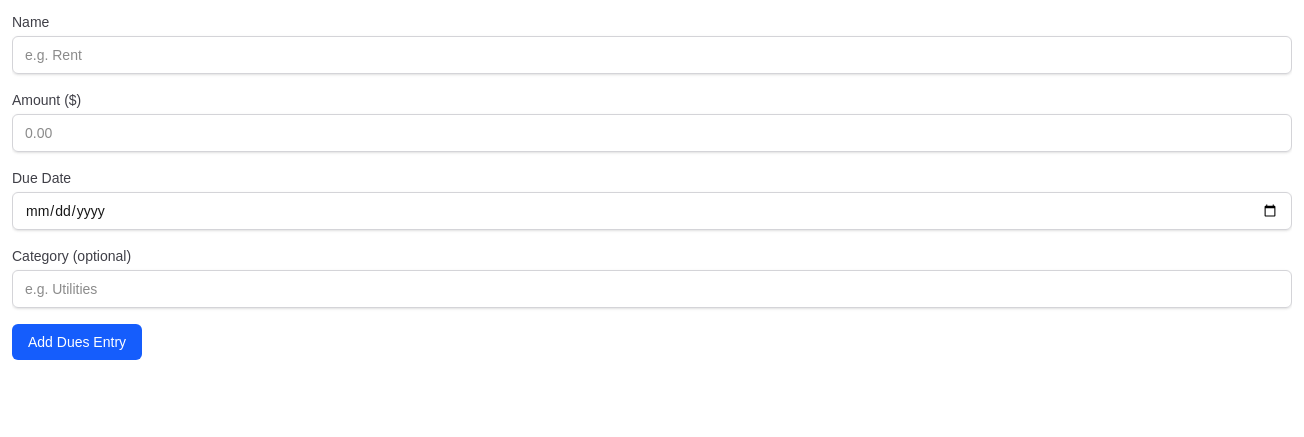
DuesForm component › clears individual field errors on input change
Note: Submit empty to trigger errors
Click the button "Add Dues Entry" at (77, 342), box [12,324,142,360]
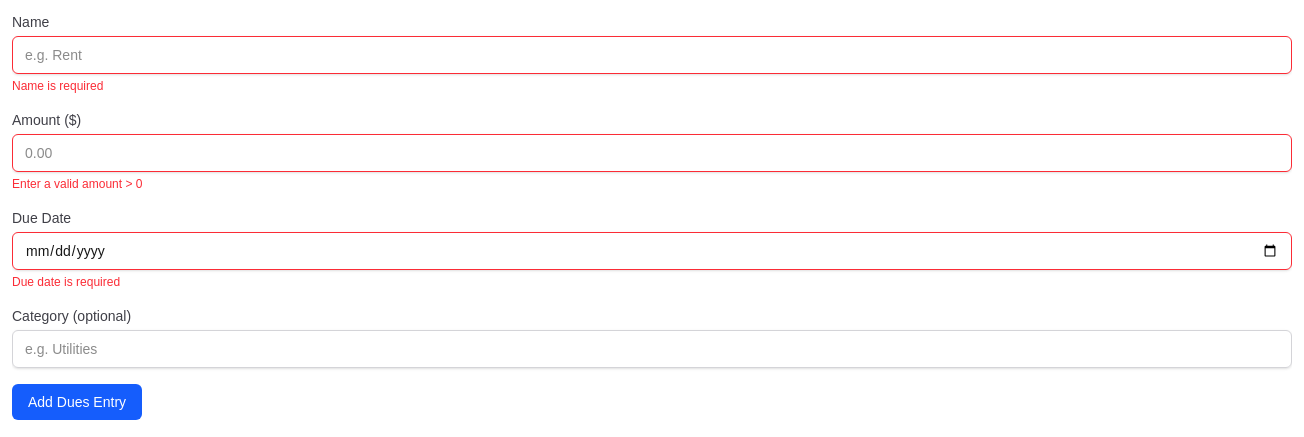
Check: the text "Name is required" is shown, box [12,79,103,93]
Note: Start typing — error should disappear
Type "Rent" into the field labelled "Name" at (652, 55), box [12,36,1292,74]
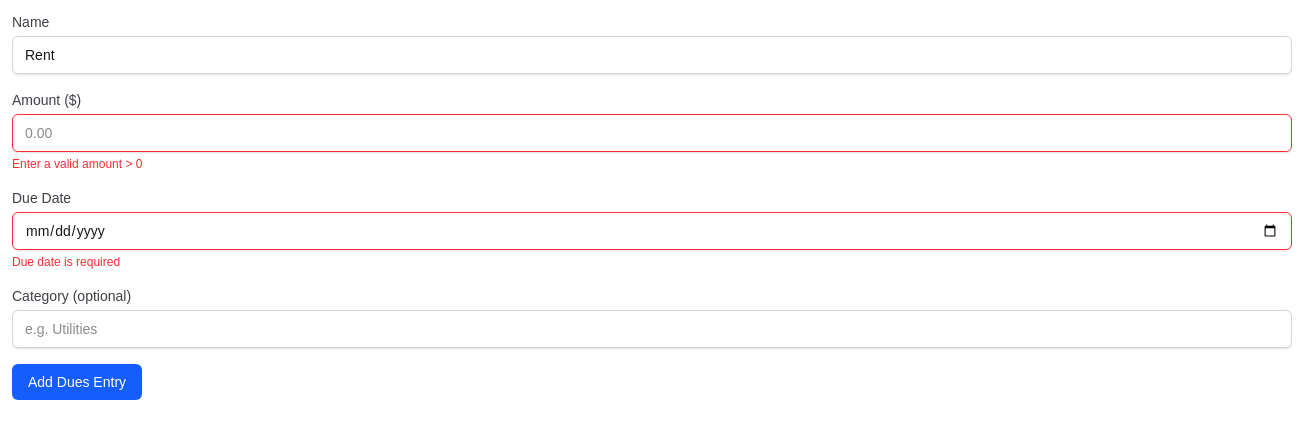
Check: the text "Name is required" is gone
